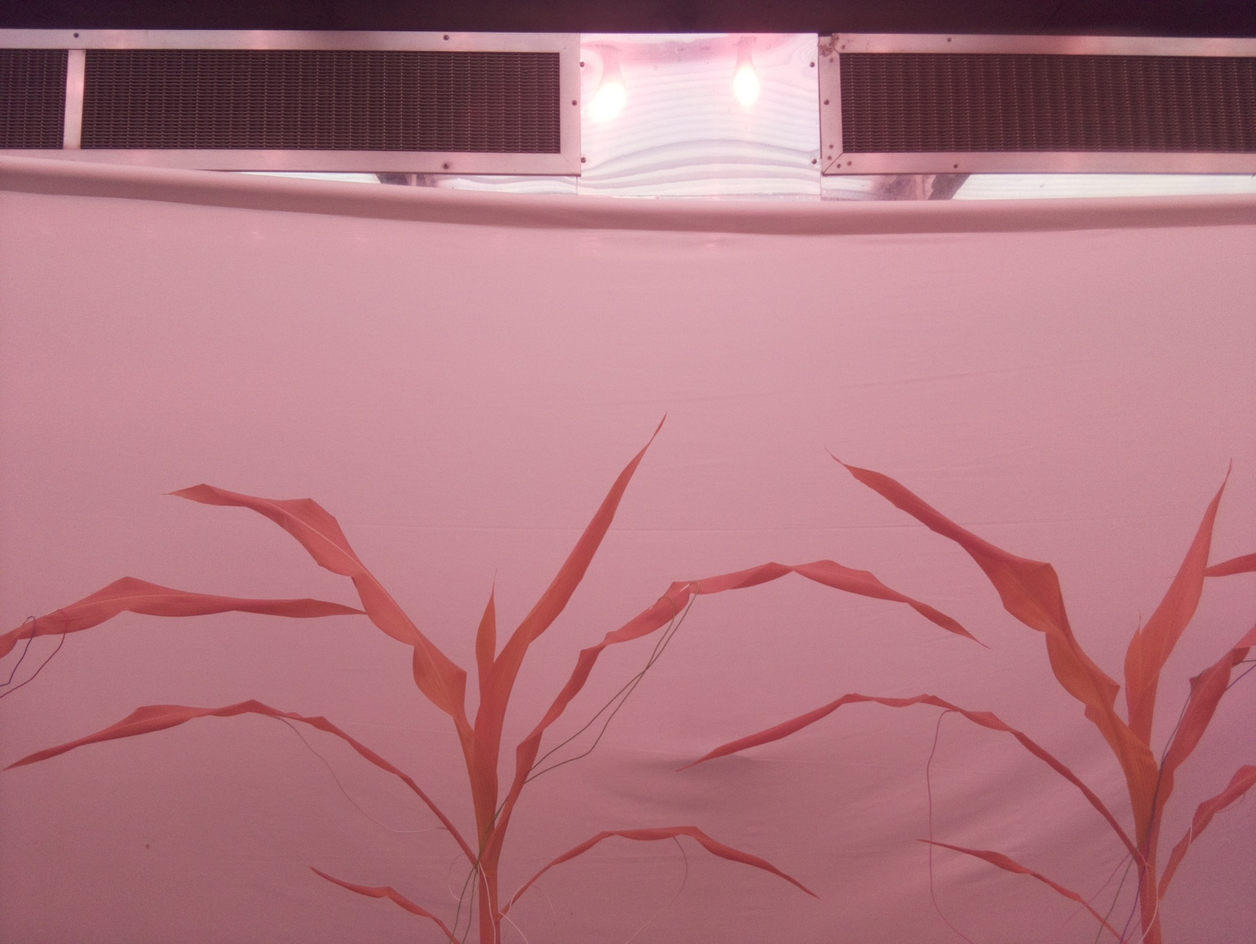maize: (0, 412, 991, 944), (674, 446, 1256, 944)
